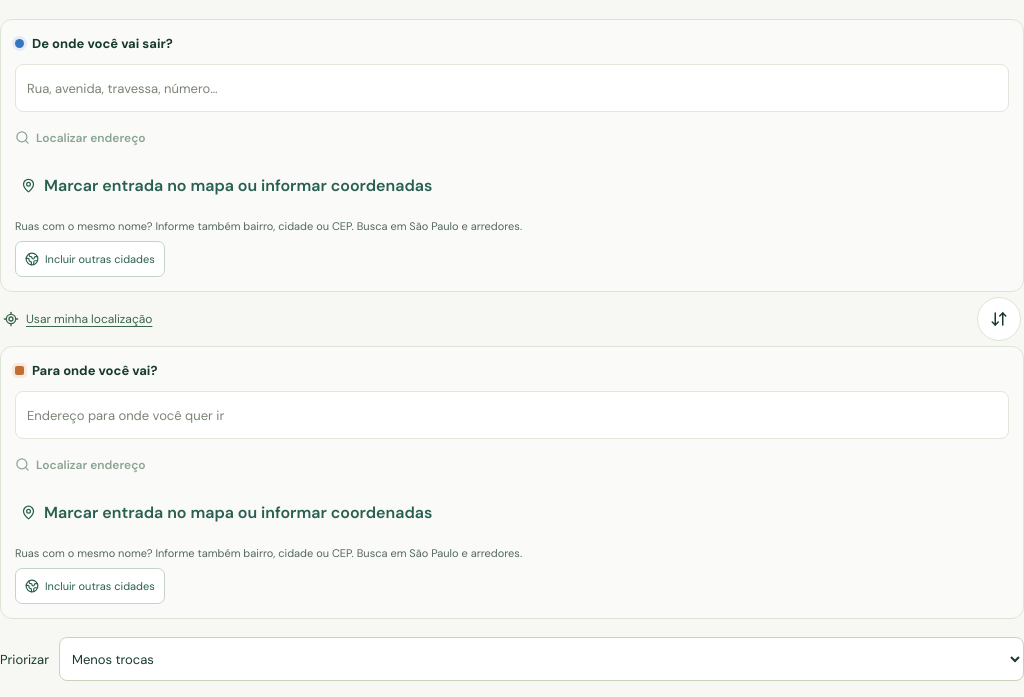
desenha carro no próprio mapa e mostra tempo/instruções sem GPS de ônibus
Type "Rua Origem, 1000" into the dropdown labelled "De onde você vai sair?" at (512, 88), box top-left (16, 65), bottom-right (1008, 111)
Click the button with aria-label "Localizar origem" at (80, 134), box top-left (15, 112), bottom-right (146, 156)
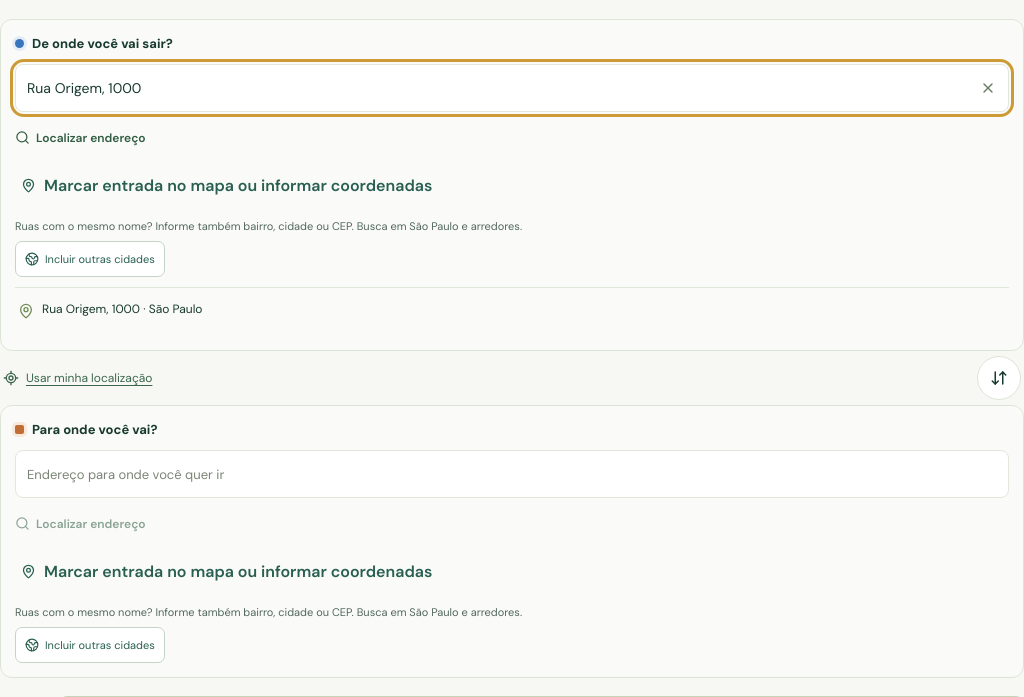
Click the option "Rua Origem, 1000 · São Paulo" at (122, 309), box top-left (15, 288), bottom-right (1009, 336)
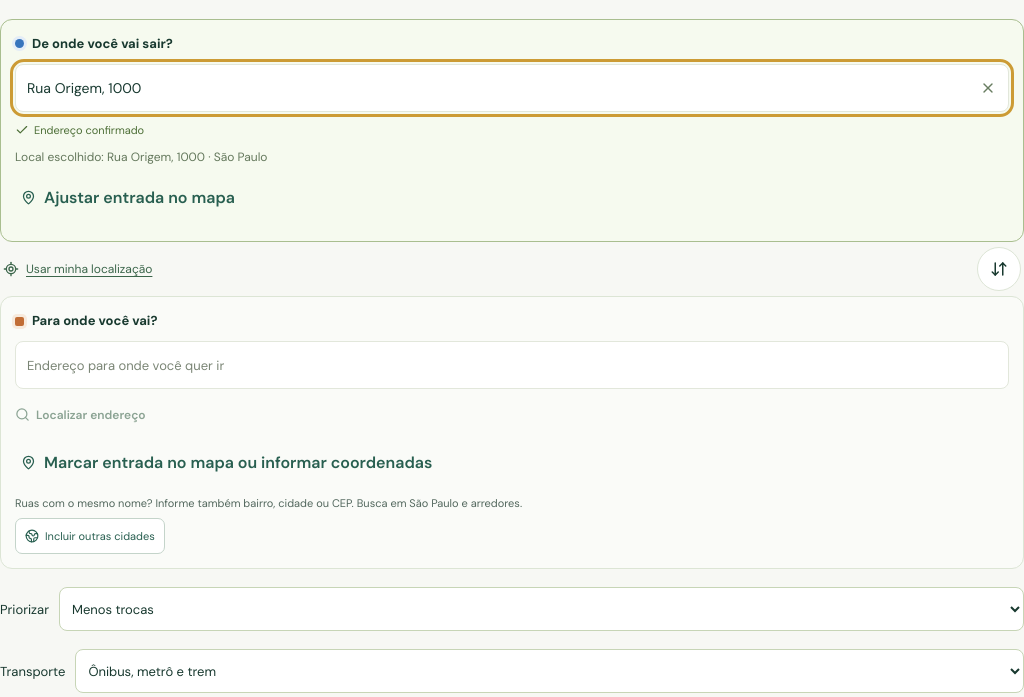
Type "Rua Destino, 1000" into the dropdown labelled "Para onde você vai?" at (512, 365), box top-left (16, 342), bottom-right (1008, 388)
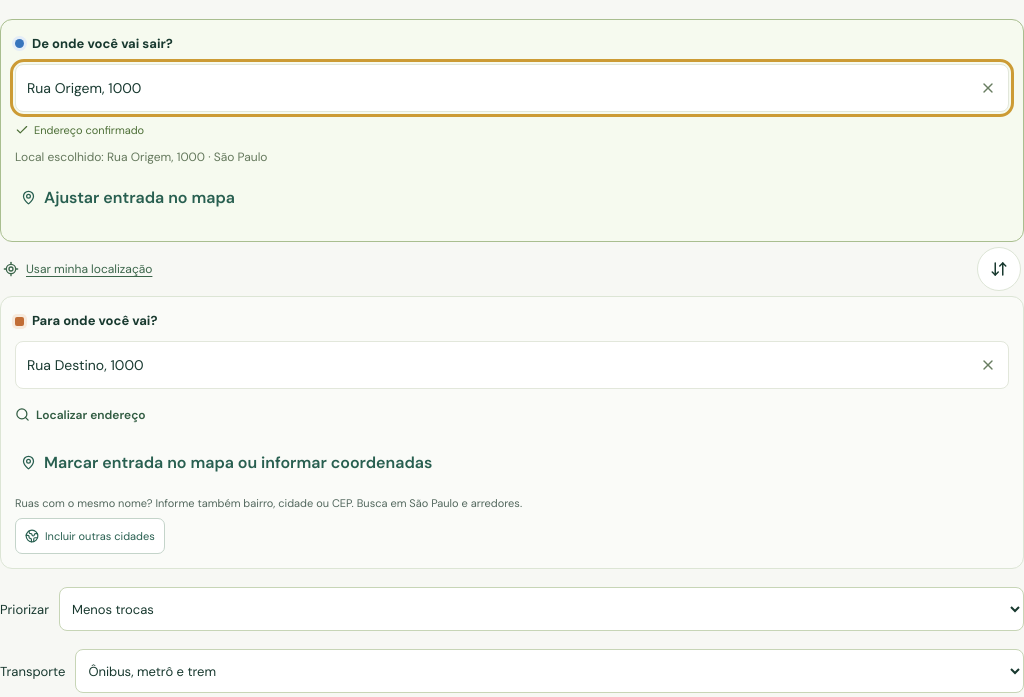
Click the button with aria-label "Localizar destino" at (80, 411), box top-left (15, 389), bottom-right (146, 433)
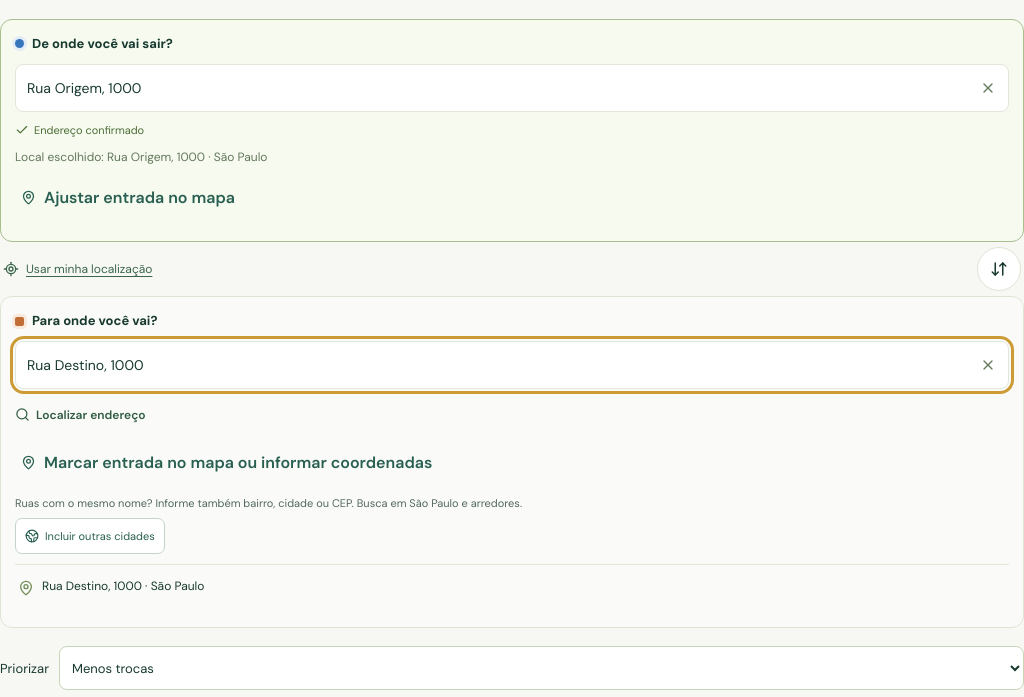
Click the option "Rua Destino, 1000 · São Paulo" at (123, 586), box top-left (15, 565), bottom-right (1009, 613)
(page scrolled)
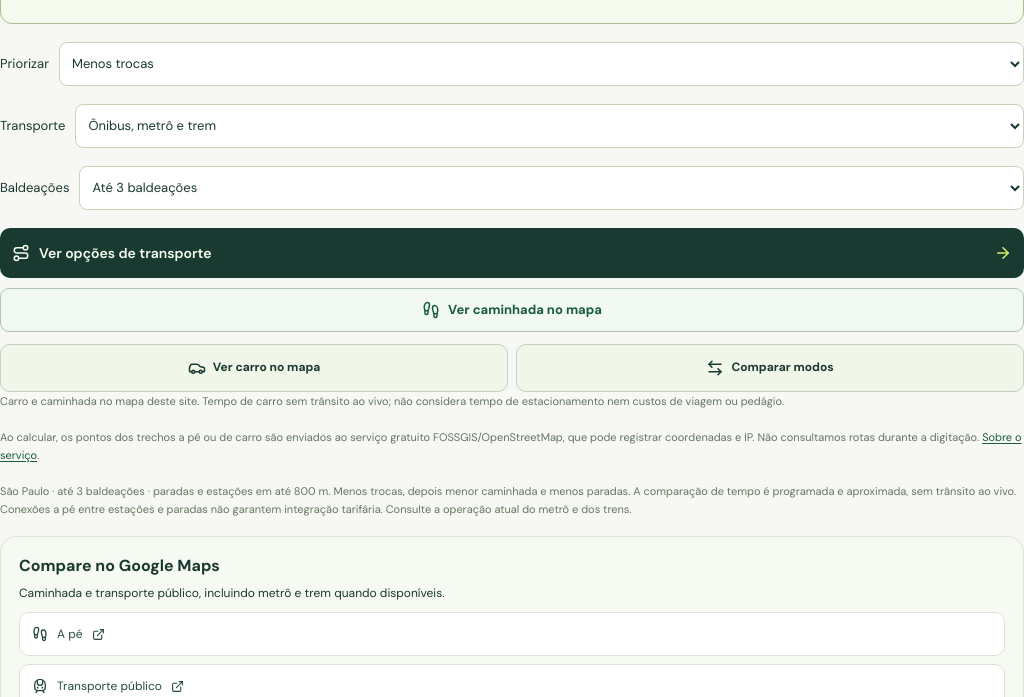
Click the button "Ver carro no mapa" at (254, 368), box top-left (0, 344), bottom-right (508, 392)
(page scrolled)
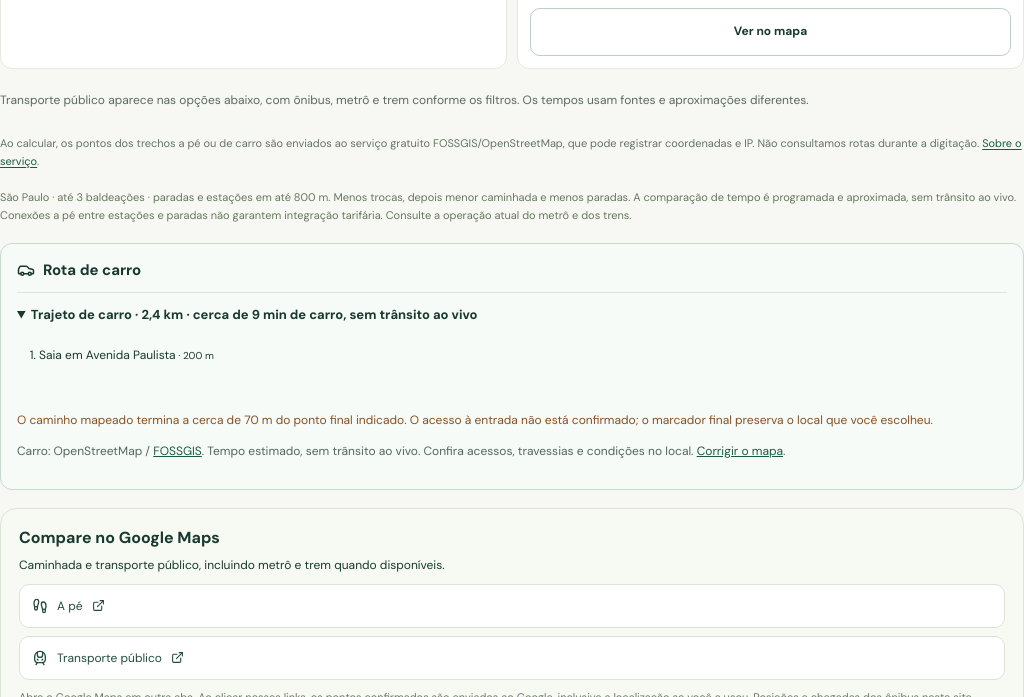
Expected: the list item "Saia em Avenida Paulista · 200 m" is shown, top-left (39, 347), bottom-right (214, 363)
Expected: the heading "9 min" is shown, top-left (31, 306), bottom-right (478, 323)
Expected: the text "70 m do ponto final" is shown, top-left (17, 411), bottom-right (1007, 430)
